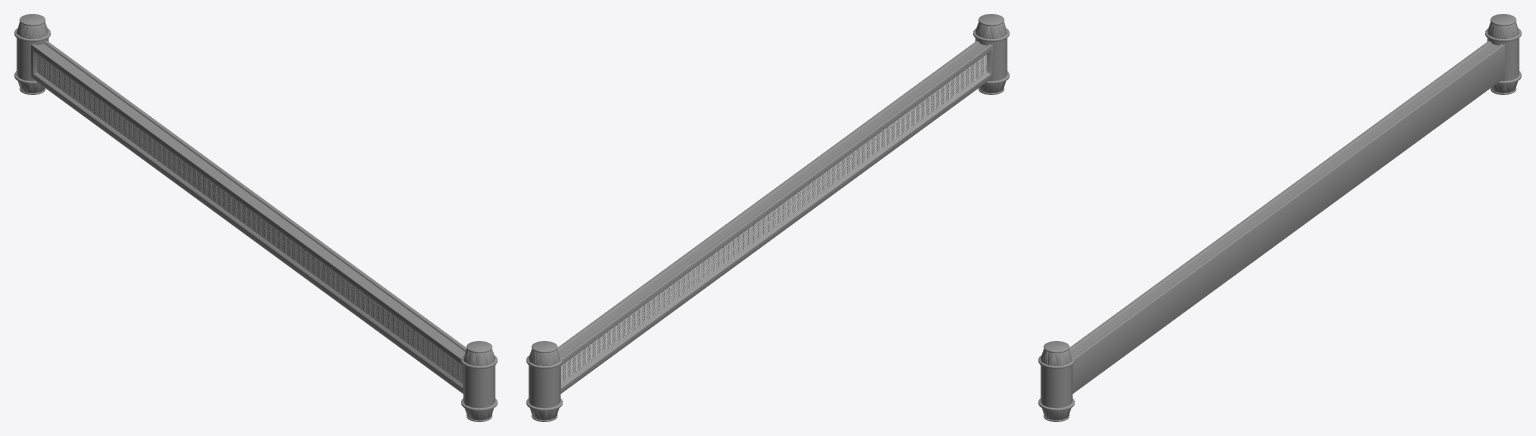
The model's file is SM_RunSideScreen01.fbx.
The picture shows the model from 3 angles, left to right: view 1: azimuth 30°, elevation 25°; view 2: azimuth 150°, elevation 25°; view 3: azimuth 330°, elevation 25°; orthographic projection.
Visible parts, largest first — view 1: SM_RunSideScreen01; view 2: SM_RunSideScreen01; view 3: SM_RunSideScreen01.
Boxes of the visible parts, <box> form: SM_RunSideScreen01: <box>14,14,497,421</box>; SM_RunSideScreen01: <box>526,14,1009,421</box>; SM_RunSideScreen01: <box>1038,14,1521,421</box>.
Bounding box in the file's own units: 498 × 1050 × 12599.
